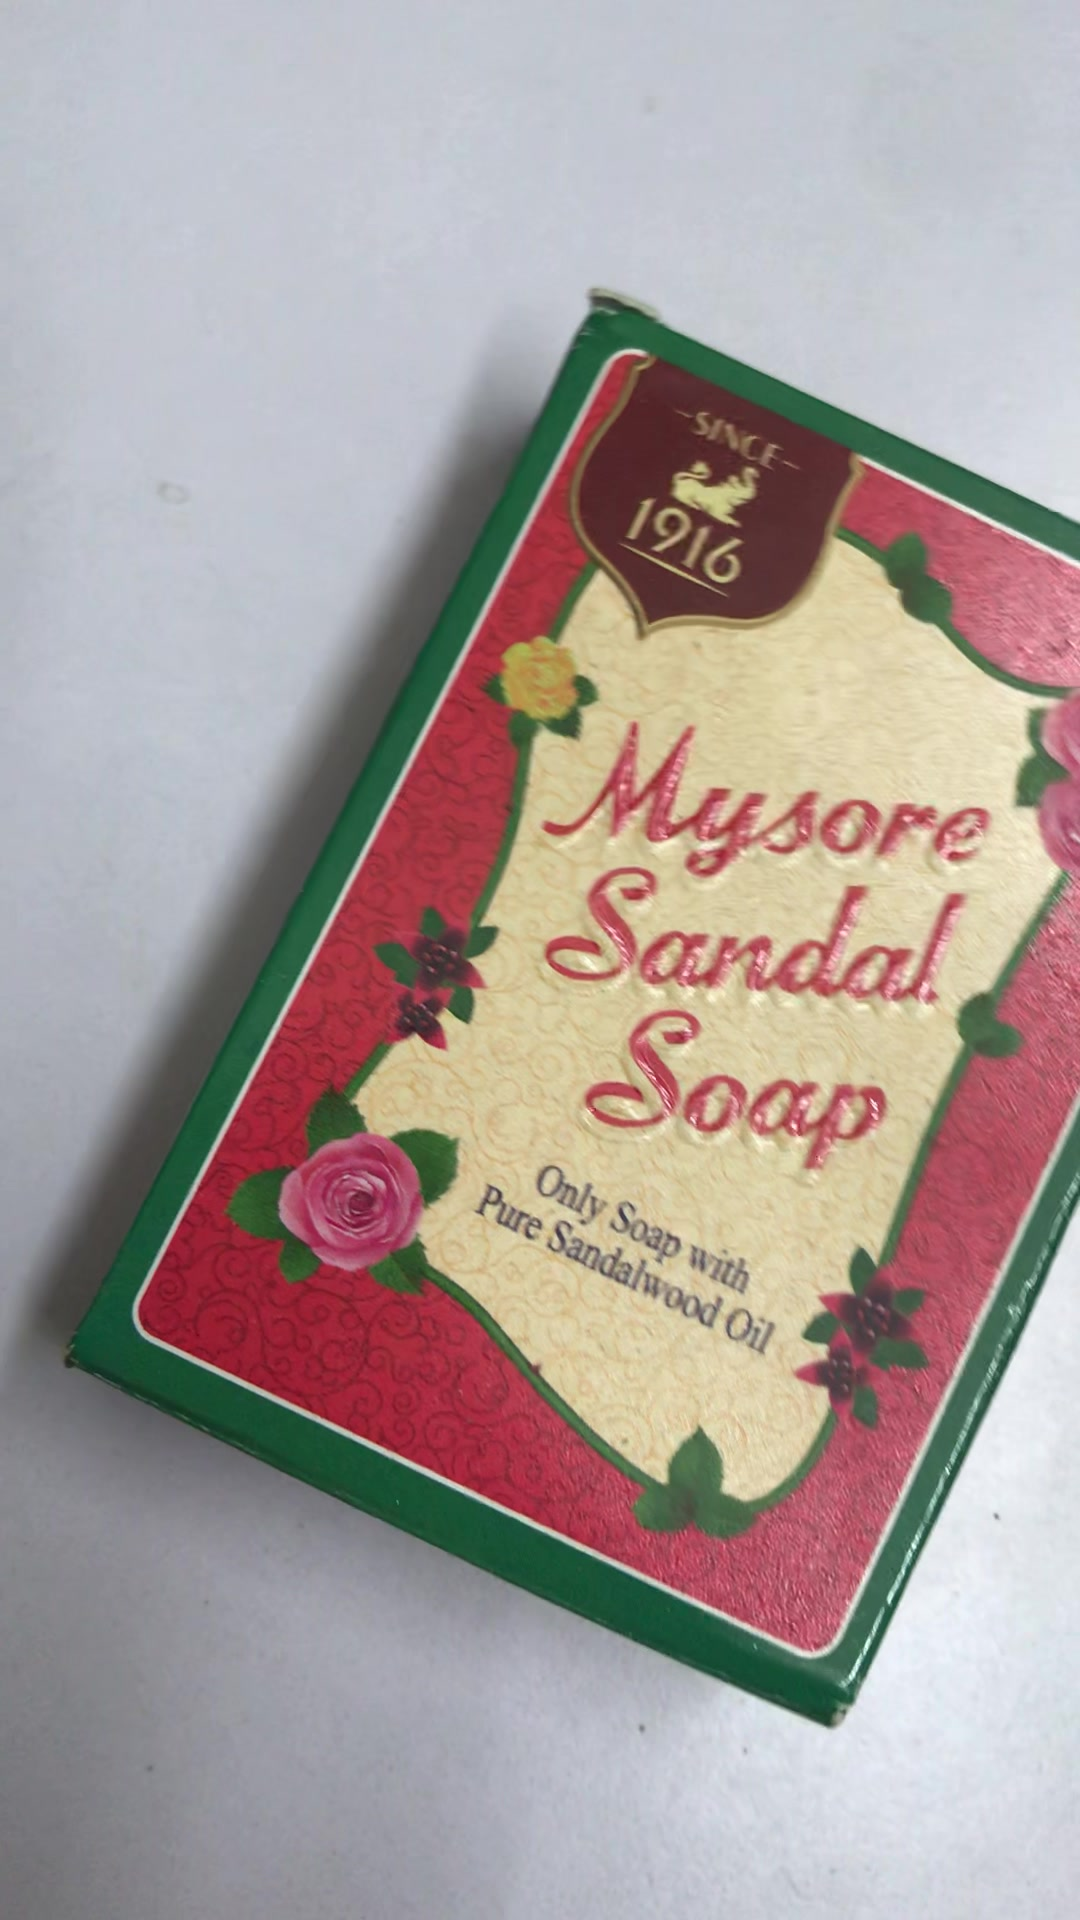mysore sandal soap: (59, 298, 1072, 1735)
